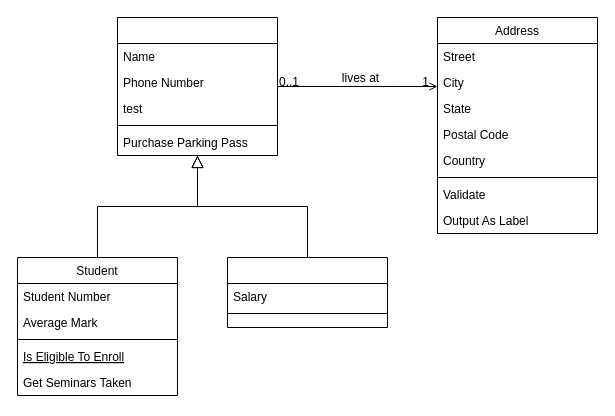
Some shapes in this 615 by 416 pixel diagram are drawn without their labels. Here are the shapes that lost their labels. From the top down, the box of each, then its label:
(116, 16, 278, 156): Person
(226, 256, 388, 328): Professor
